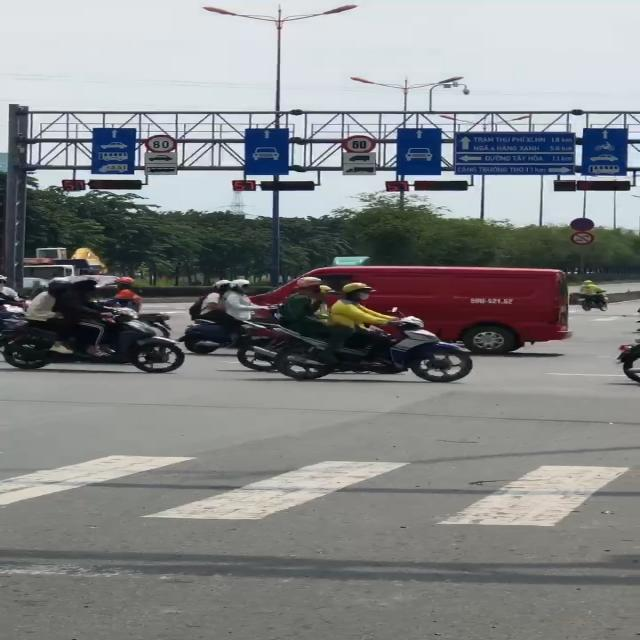Bien bao toc do toi da cho phep: (339, 133, 383, 155), (142, 132, 184, 154)
